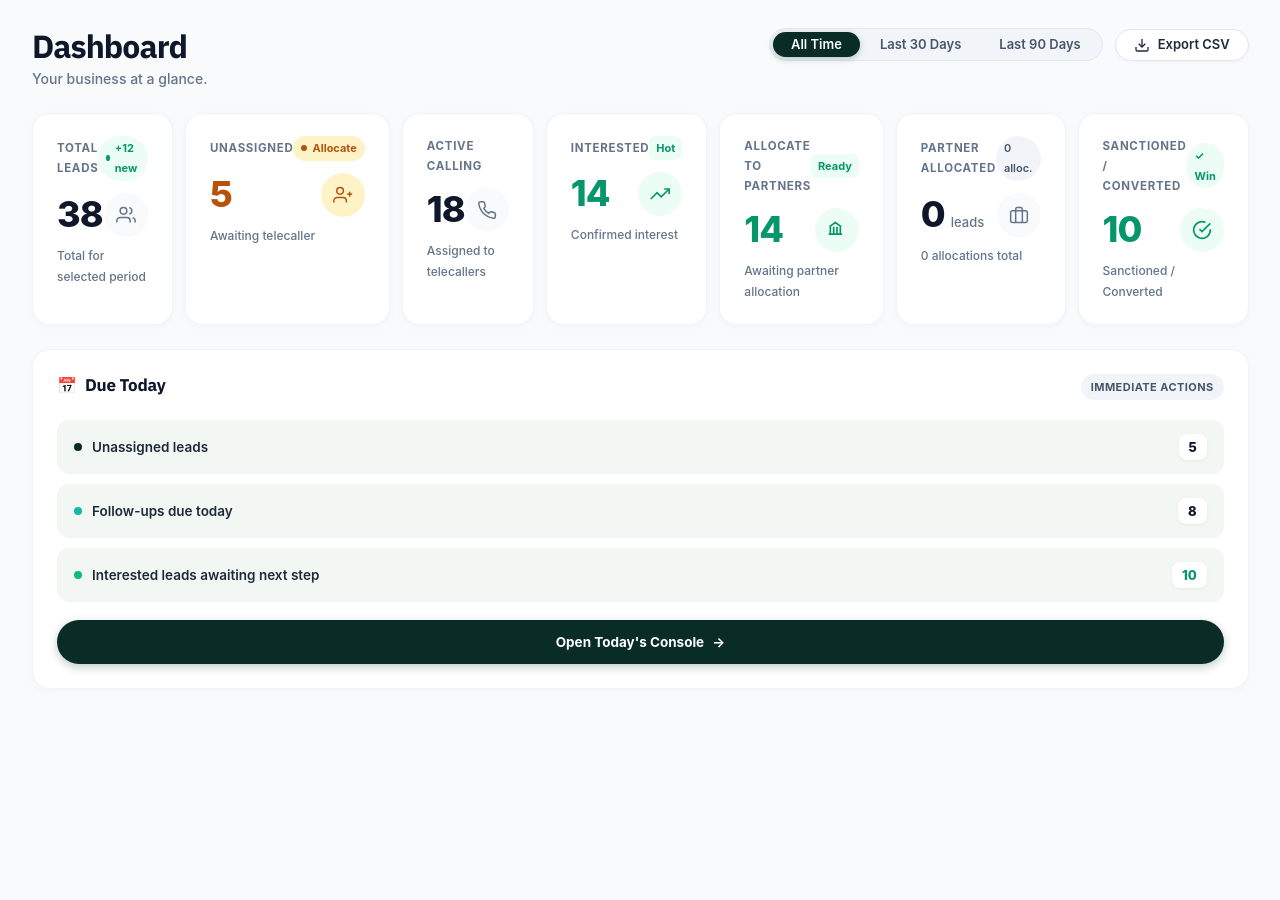
Stitch Dashboard Acceptance Suite › updates dashboard metrics when switching between All Time, Last 30 Days, and Last 90 Days
Check: the text "38" is shown, box [57,195,103,235]
# Click "Last 30 Days"
Step 1. Click the tab "Last 30 Days" → (921, 44), box [862,32,979,57]
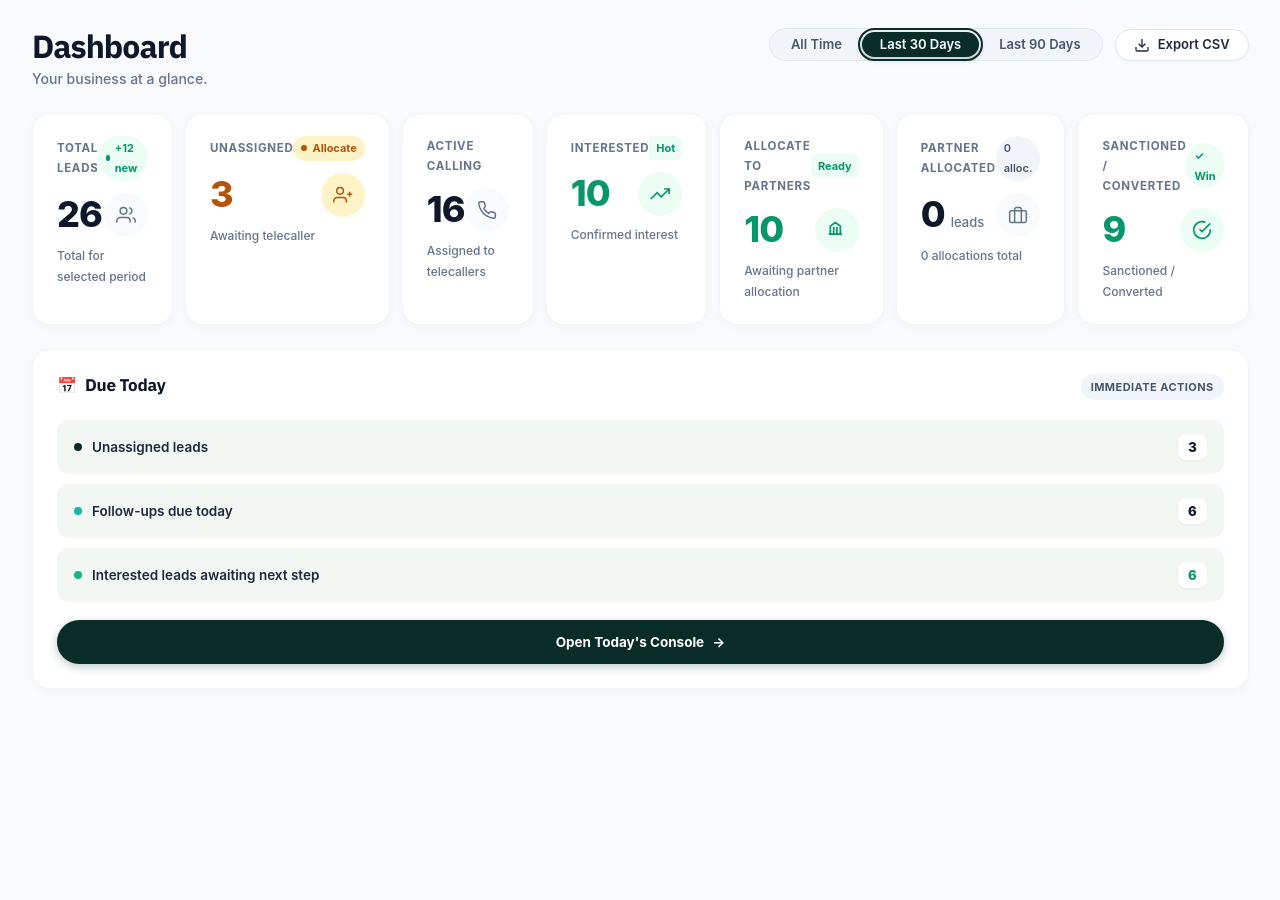
Check: the text "26" is shown, box [57,195,102,235]
# Click "Last 90 Days"
Step 2. Click the tab "Last 90 Days" → (1040, 44), box [981,32,1099,57]
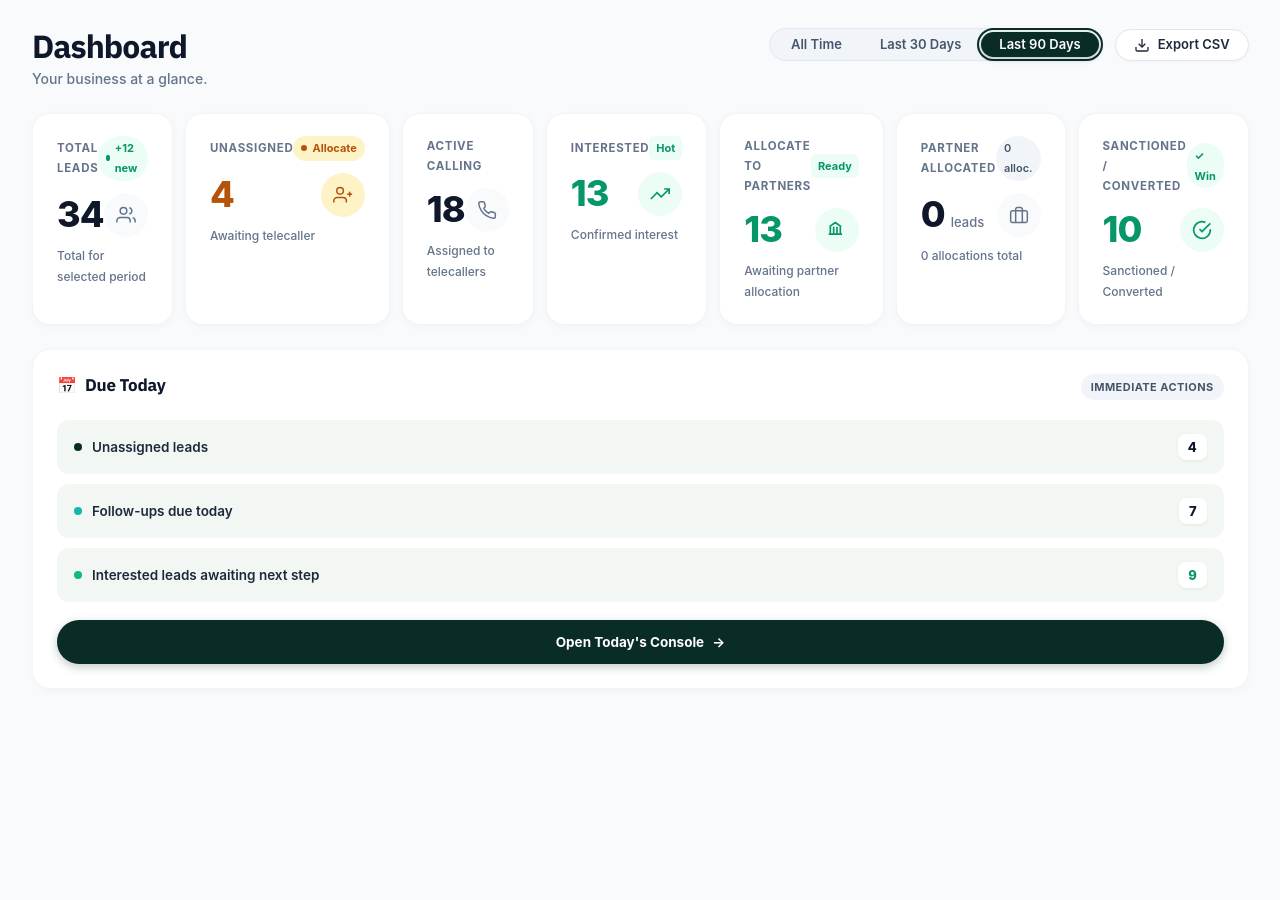
Check: the text "34" is shown, box [57,195,104,235]
# Click "All Time" to restore
Step 3. Click the tab "All Time" → (816, 44), box [773,32,860,57]
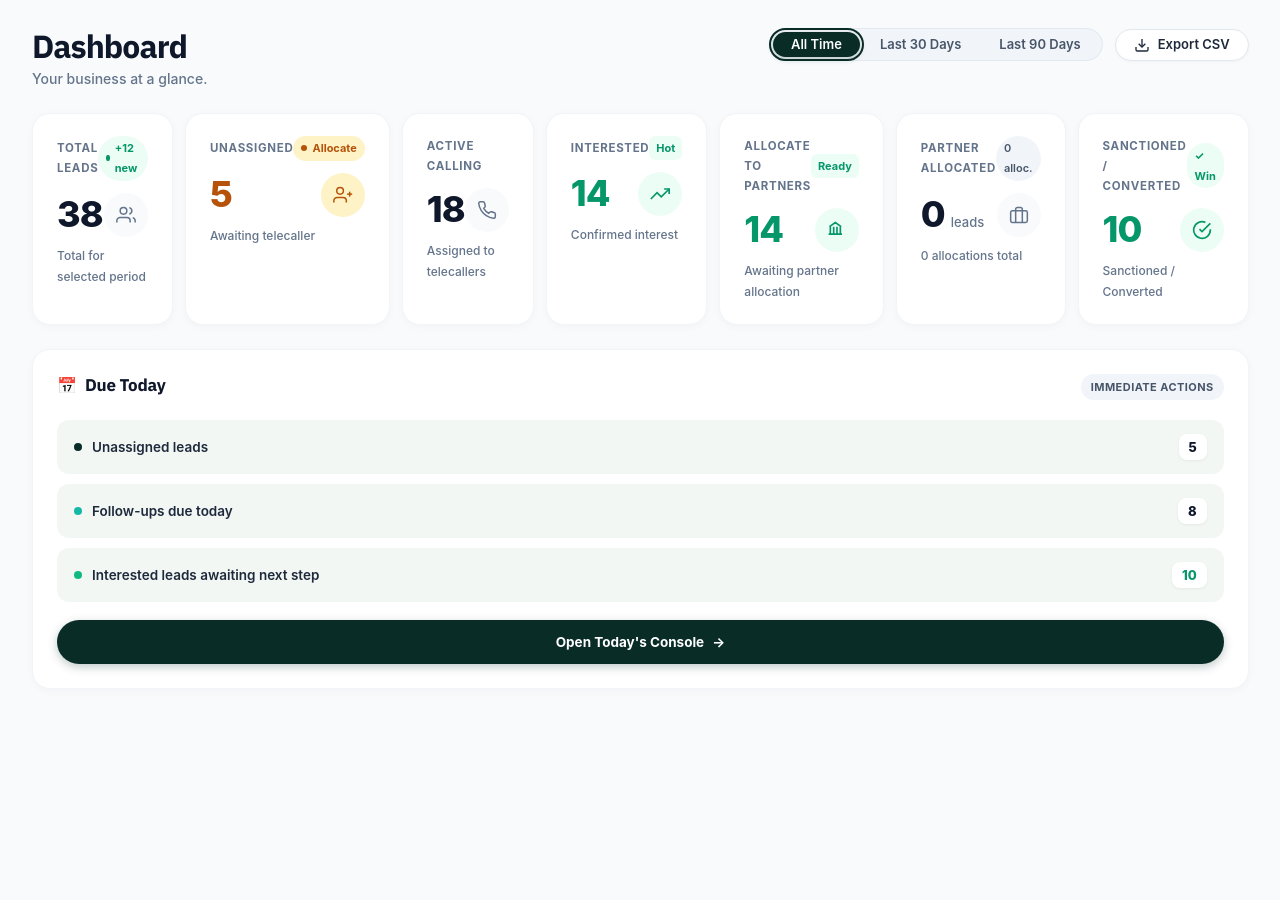
Check: the text "38" is shown, box [57,195,103,235]
